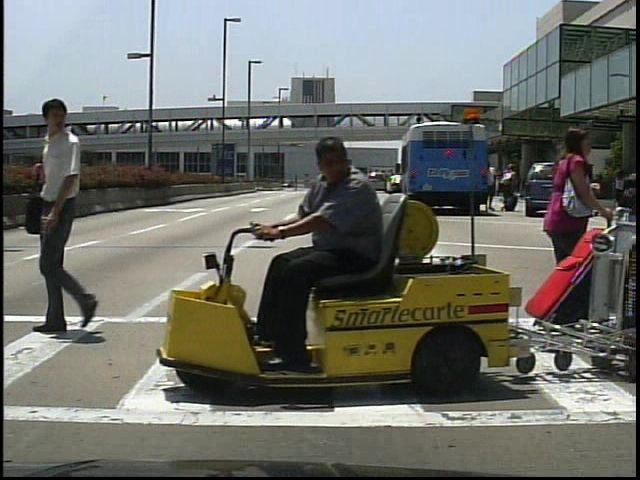person: (250, 134, 392, 373), (30, 99, 124, 335), (535, 121, 599, 354), (579, 180, 634, 326), (480, 162, 500, 216), (580, 163, 601, 214), (502, 164, 521, 218)
